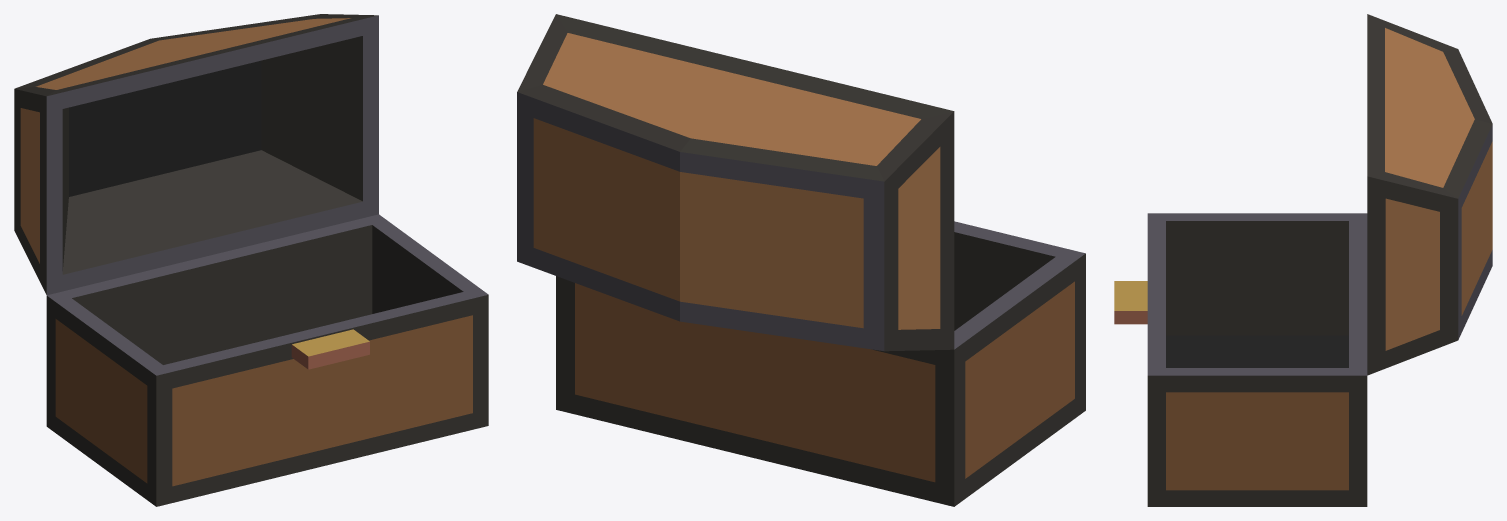
The model's file is TB_D_Prop_ChestB_Open_B.FBX.
3 views of the same model, side by side, from view 1: azimuth 30°, elevation 25°; view 2: azimuth 150°, elevation 25°; view 3: azimuth 270°, elevation 25° (orthographic). The views are drawn at different scales.
Visible parts, largest first — view 1: TB_D_Prop_ChestB_Open_B; view 2: TB_D_Prop_ChestB_Open_B; view 3: TB_D_Prop_ChestB_Open_B.
Boxes of the visible parts, box(x1,y1,x2,y2) form: TB_D_Prop_ChestB_Open_B: box(14, 14, 488, 506); TB_D_Prop_ChestB_Open_B: box(517, 14, 1085, 506); TB_D_Prop_ChestB_Open_B: box(1114, 14, 1492, 506).
Bounding box in the file's own units: 1.05 × 0.9932 × 1.03.
